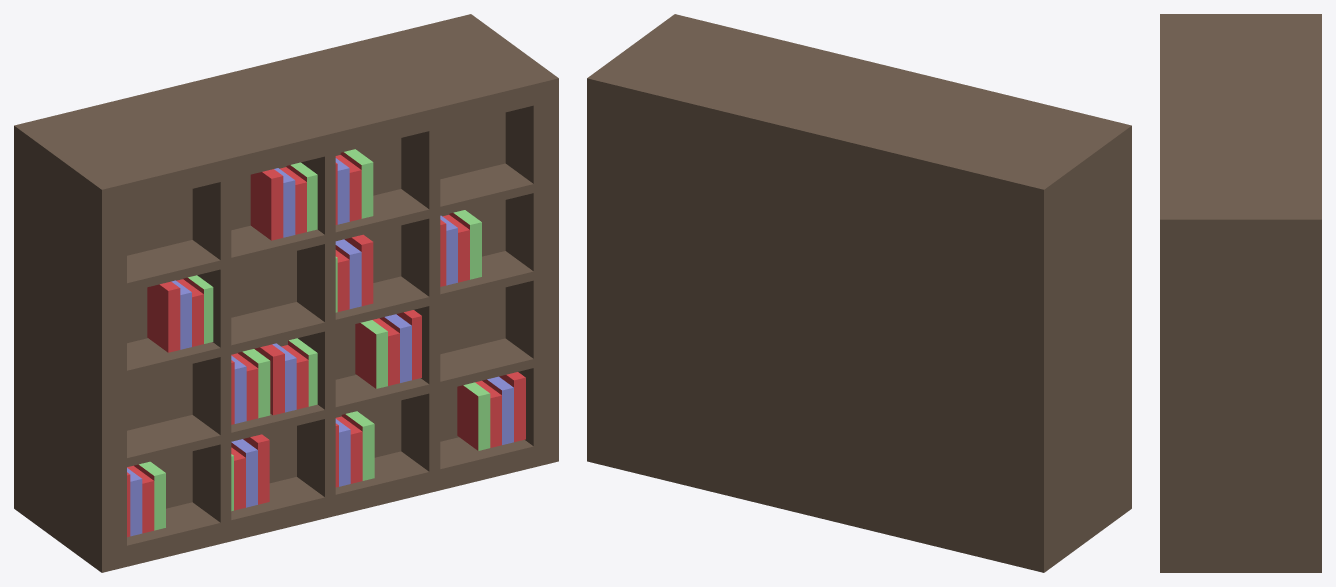
The model's file is librero.fbx.
3 renders of one model, left to right at view 1: azimuth 30°, elevation 25°; view 2: azimuth 150°, elevation 25°; view 3: azimuth 270°, elevation 25°, orthographic. The views are drawn at different scales.
Parts seen in each view (by area): view 1: Cube.008; view 2: Cube.008; view 3: Cube.008.
Part boxes in pixels (x1=…): Cube.008: x1=14, y1=14, x2=558, y2=572; Cube.008: x1=587, y1=14, x2=1131, y2=572; Cube.008: x1=1160, y1=14, x2=1321, y2=572.
Bounding box in the file's own units: 144 × 116 × 48.03.
